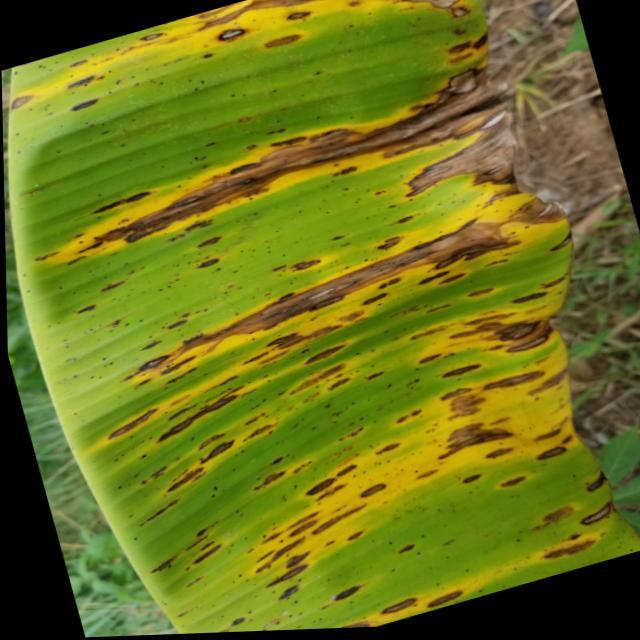Early_rust: (0, 2, 614, 640)
